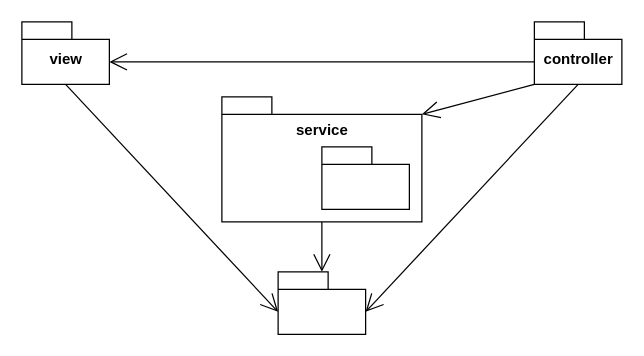
Image size: 644x356. Some labels were removed from this diagram. Each missing label, with the centre of its shape:
"ai" belongs at [365,177].
"modell" belongs at [321,302].
